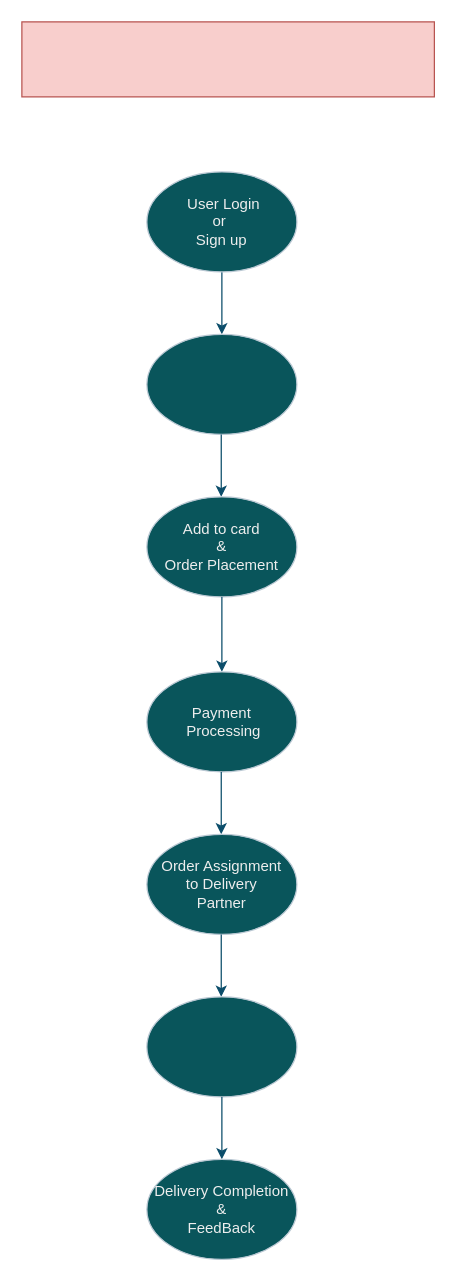
The diagram is 456 pixels wide and 1281 high, and some of its shapes have lost their labels. The box of each missing label's shape, as (x1, y1, x2, y2) in pixels:
DevOps Lifecycle of Food Delivery Apps: (21, 21, 434, 97)
Live Order Tracking: (146, 996, 297, 1097)
Restaurant Browsing & Food Selection: (146, 333, 297, 434)
